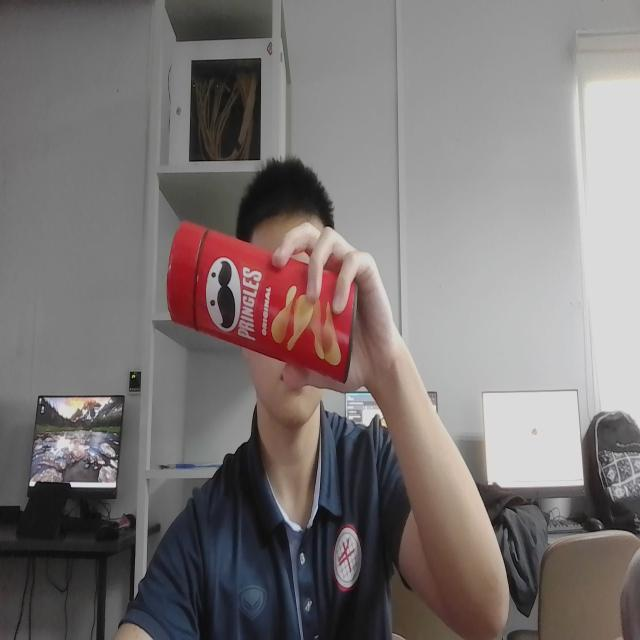water bottle: (163, 217, 361, 387)
